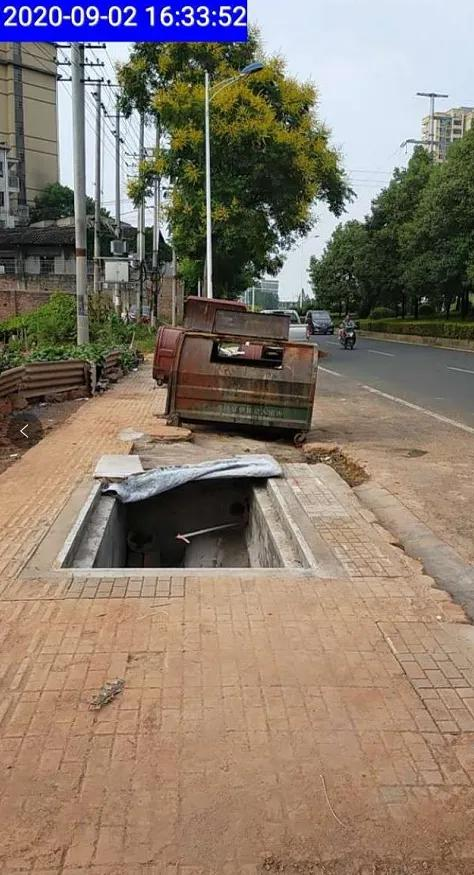wellcover: (52, 454, 345, 612)
